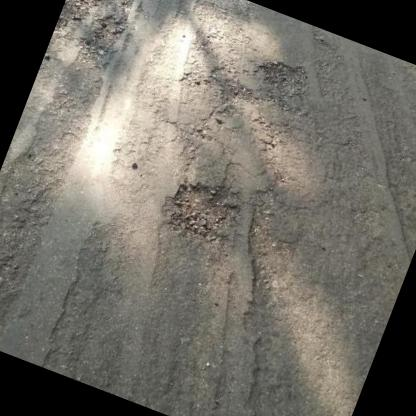pothole: (154, 166, 249, 252), (248, 50, 314, 103)
